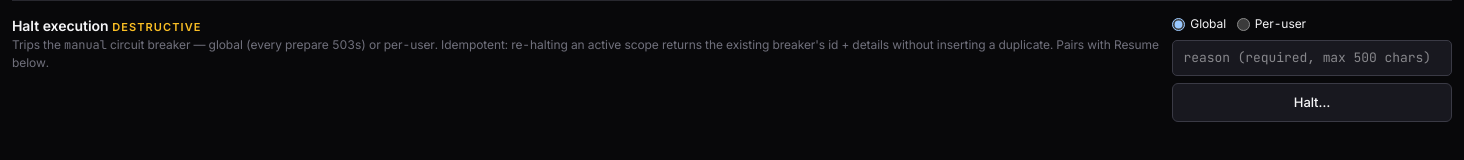
Test: HaltExecutionSection › Cancel during confirm reverts to Halt button without firing
The width and height of the screenshot is (1464, 160).
Type "manual ops" into the field with placeholder "reason (required, max 500 chars)" at [1312, 58], box [1172,40,1452,76]
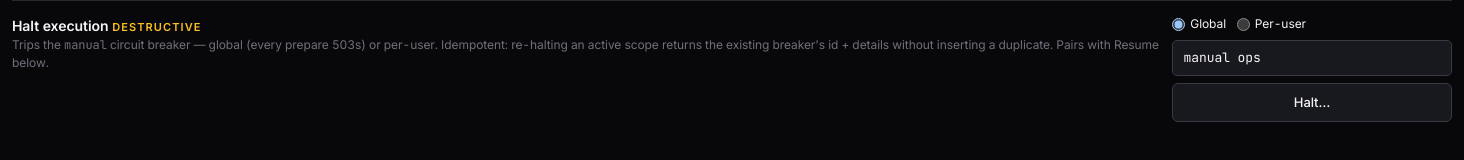
Click the button "Halt…" at [1312, 102], box [1172,82,1452,122]
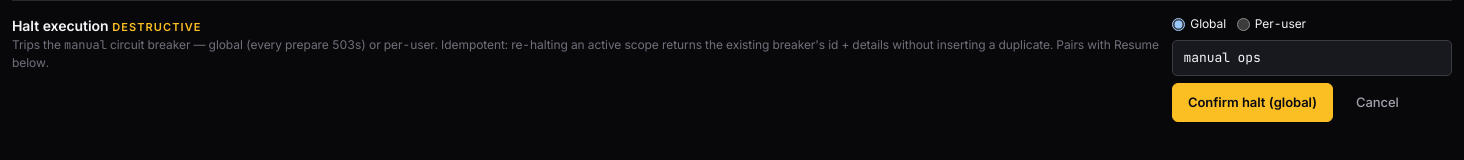
Check: the button "Confirm halt (global)" is shown, box [1172,82,1333,122]
Click the button "Cancel" at [1377, 102], box [1340,82,1415,122]
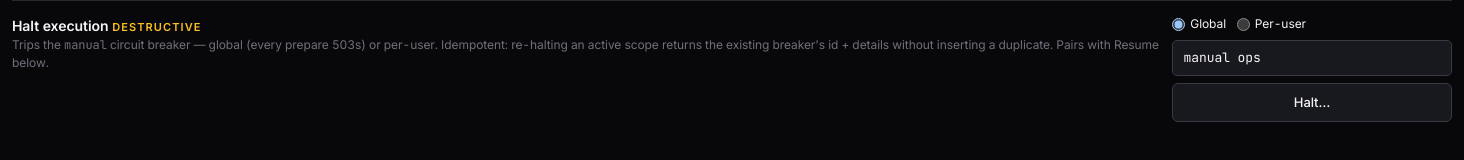
Check: the button "Halt…" is shown, box [1172,82,1452,122]
